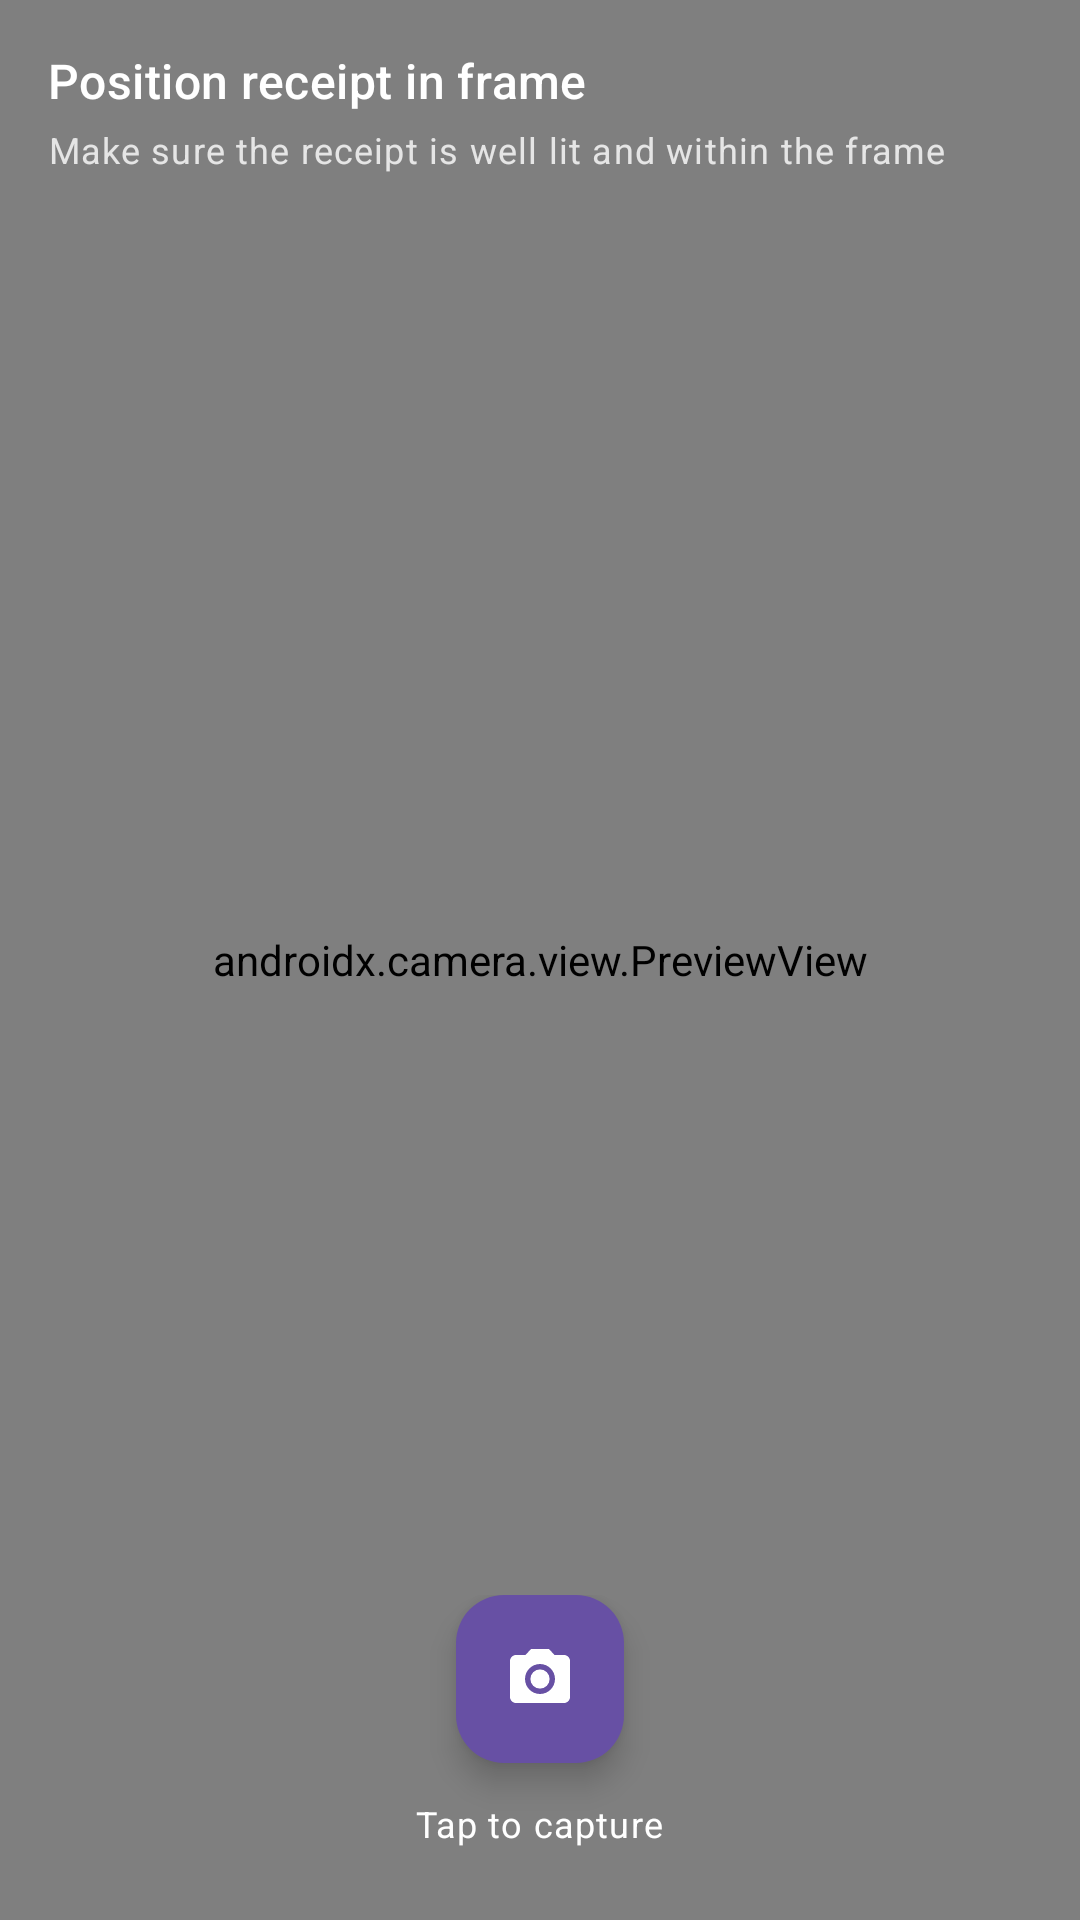

Named icons in this screenshot (1080px×1920px) and their centers, (x,y):
Take photo: (540,1679)
